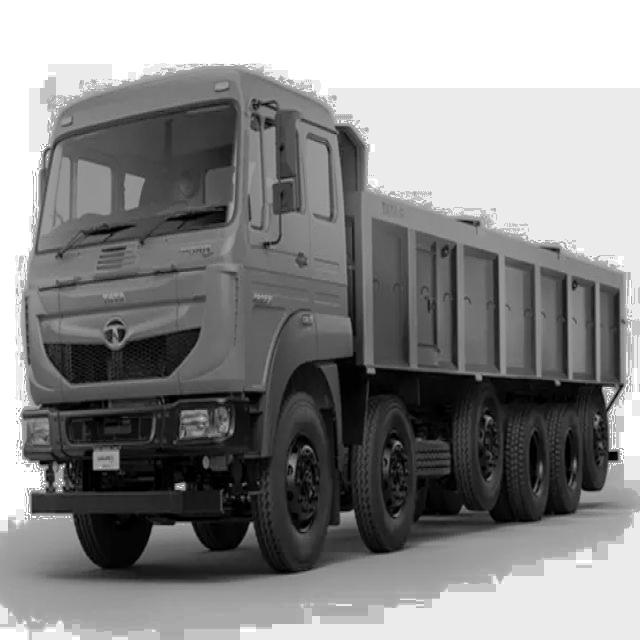HCV: (16, 49, 631, 589)
